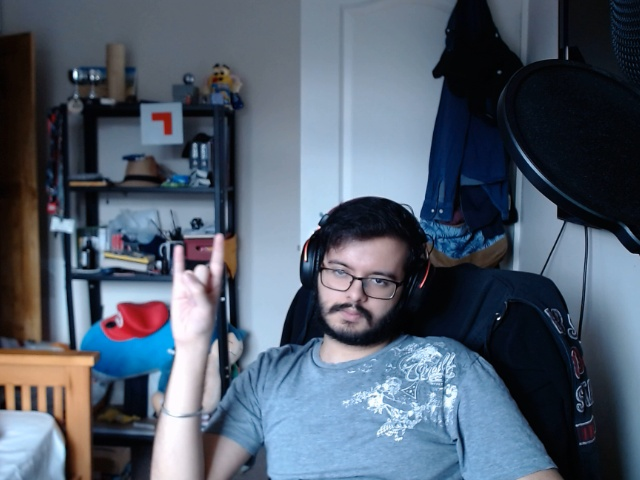Rock on: (160, 228, 238, 354)
